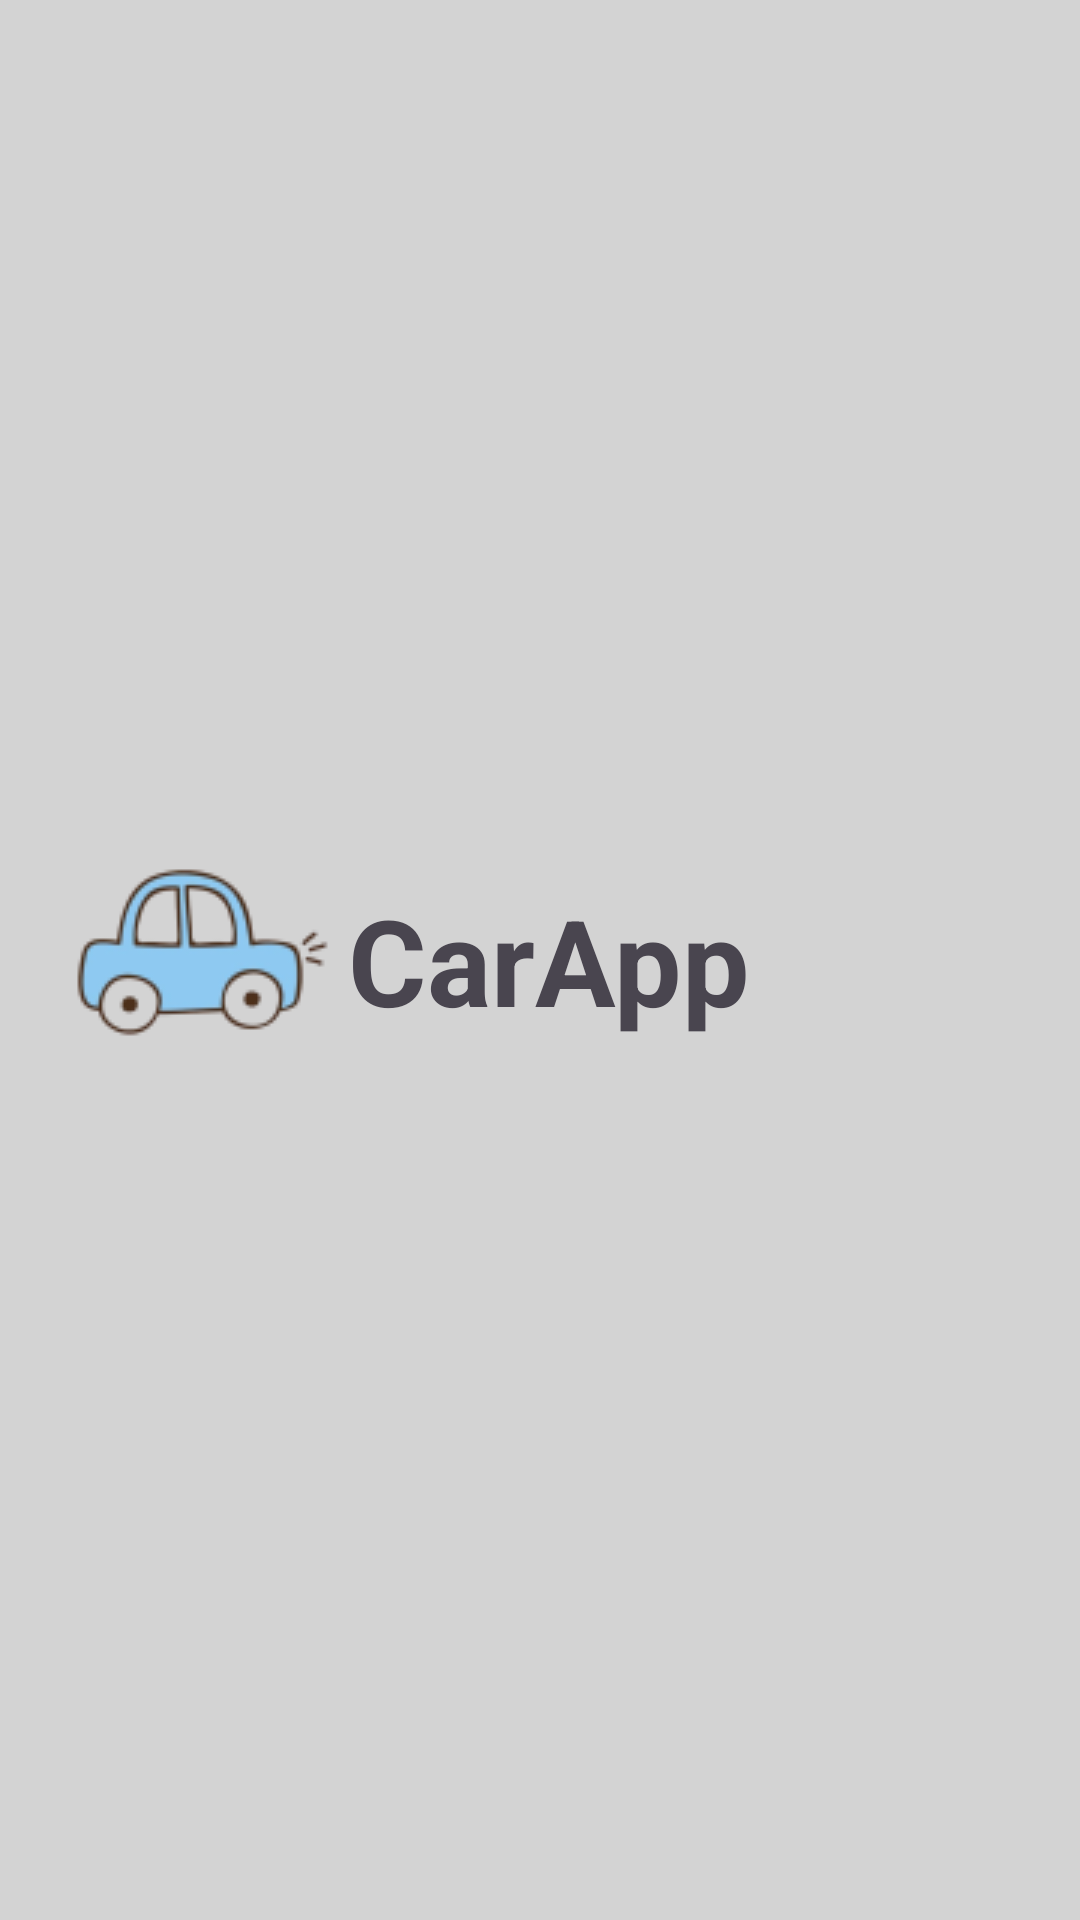

Icon bounding boxes for this 1080w x 1920h phone screenshot, format [x1,y1,x2,y2]:
carrito: [77,869,327,1036]
